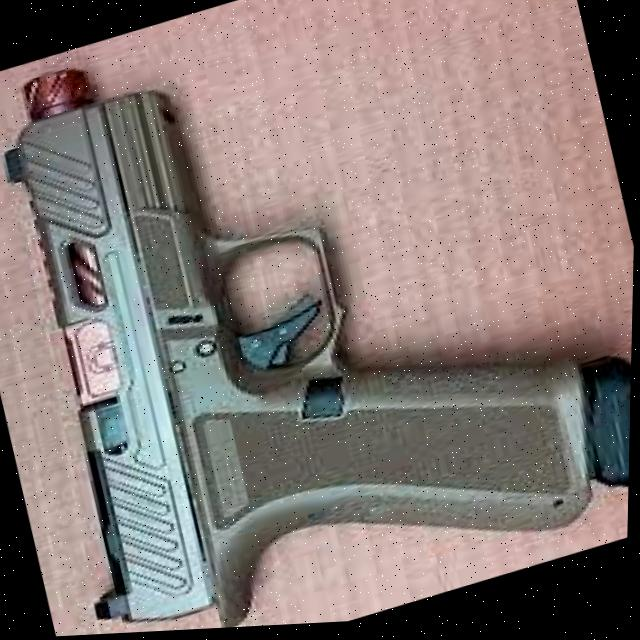gun: (1, 67, 631, 626)
